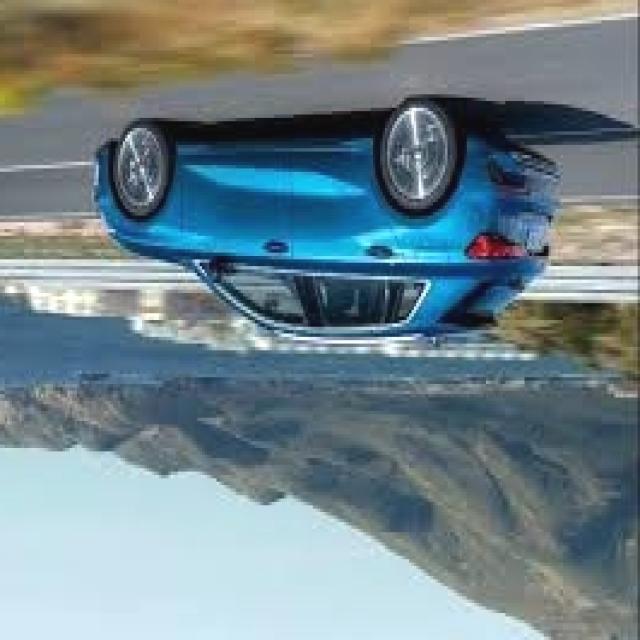blue: (90, 130, 560, 335)
